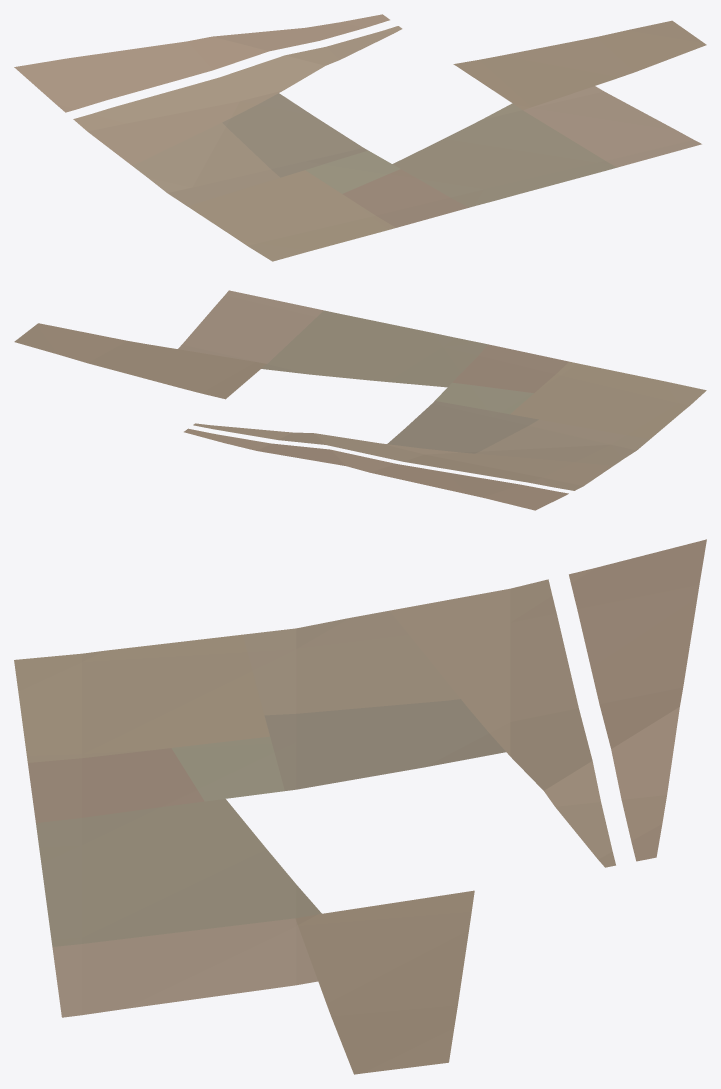
Rendered from farm_-8_-5_soil.glb.
3 views of the same model, one above another, from view 1: azimuth 30°, elevation 25°; view 2: azimuth 150°, elevation 25°; view 3: azimuth 270°, elevation 25° (orthographic). The views are drawn at different scales.
Visible parts, largest first — view 1: geometry_0; view 2: geometry_0; view 3: geometry_0.
Boxes of the visible parts, box(x1,y1,x2,y2) form: geometry_0: box(14, 14, 706, 261); geometry_0: box(14, 290, 706, 510); geometry_0: box(14, 539, 706, 1074).
Size of the model in its own units: 413 by 35.49 by 259.
